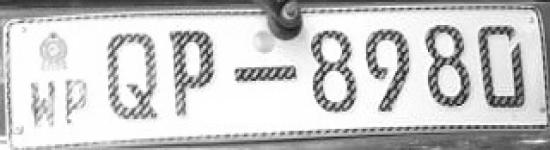-: (232, 56, 301, 93)
0: (476, 18, 530, 118)
8: (304, 24, 363, 122), (418, 20, 473, 119)
9: (364, 19, 415, 118)
P: (167, 23, 223, 125), (61, 75, 95, 127)
Q: (103, 27, 167, 126)
W: (25, 79, 62, 130)
